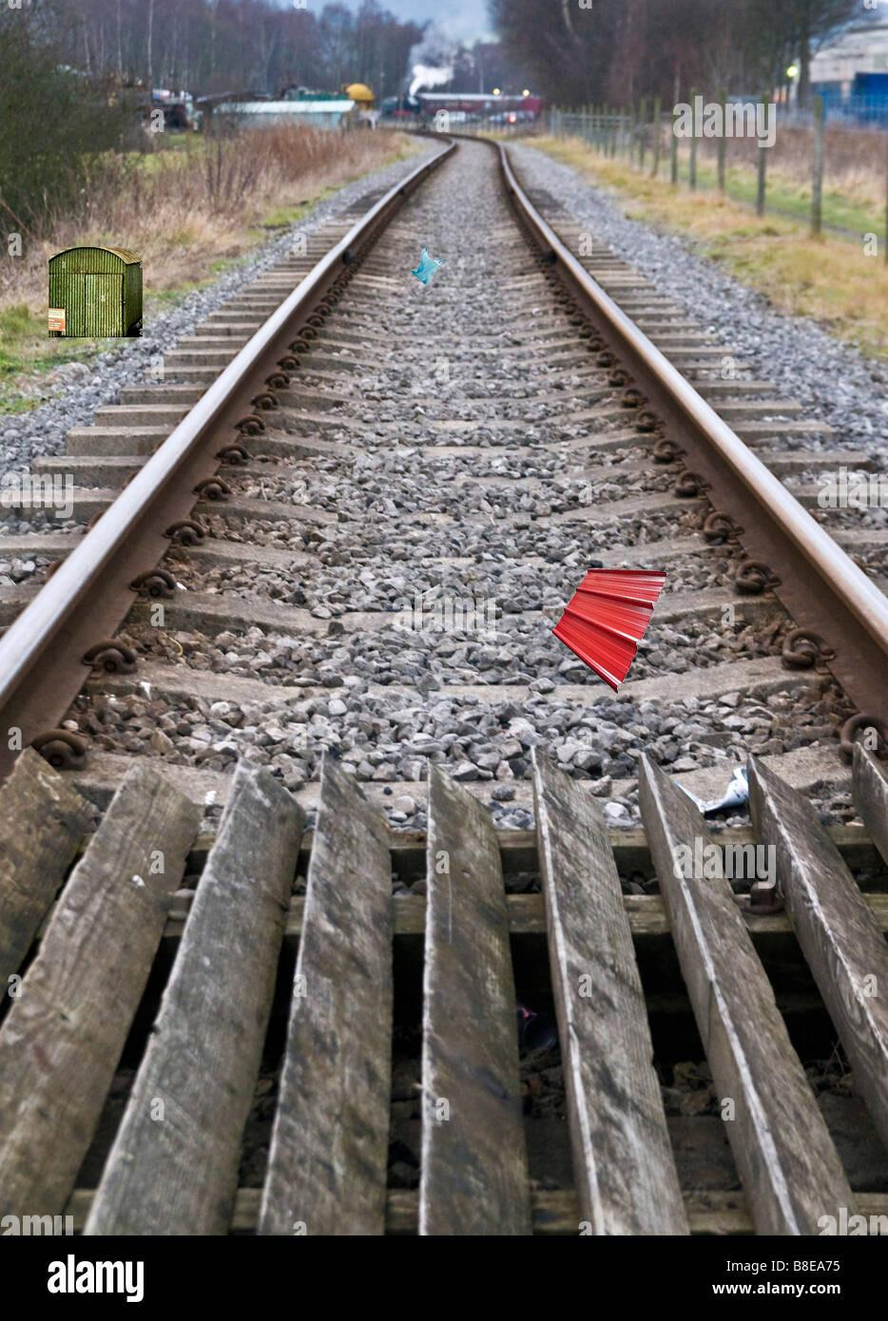Color_steel: (530, 532, 670, 691)
Green_house: (19, 211, 145, 359)
Plastic: (409, 230, 447, 290)
